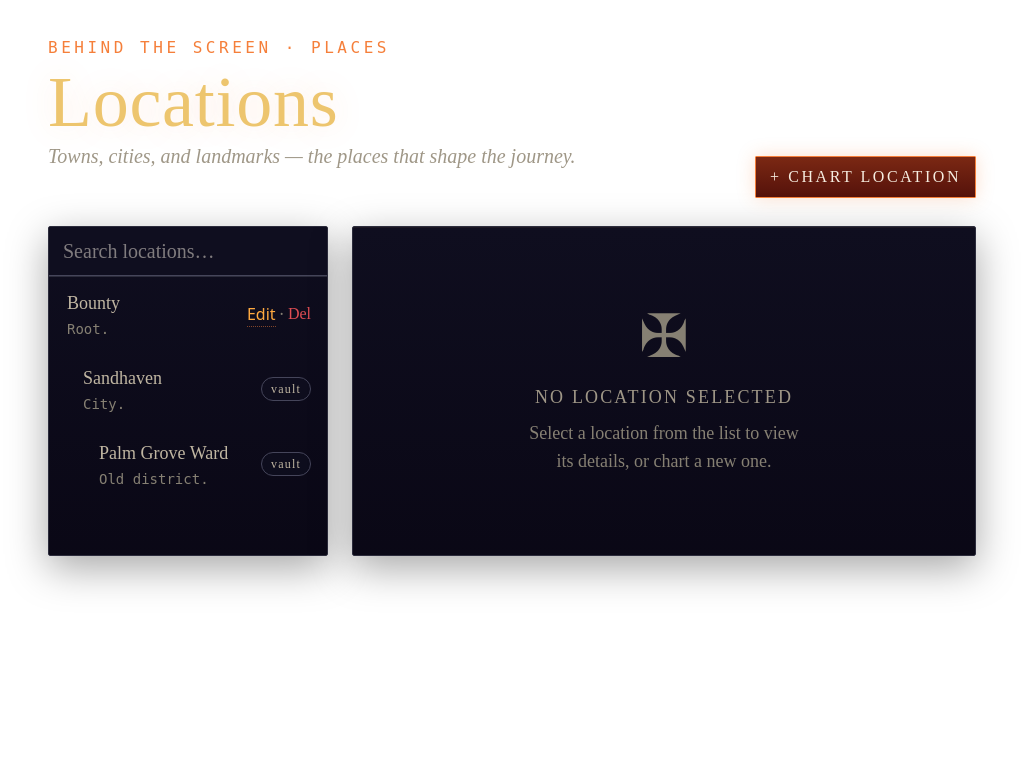
Test: Admin locations tree › lists nested locations, searches every level, and marks nested rows read-only
Expected: the text "Palm Grove Ward" is shown, [99,443,228,463]
Expected: the text "Sandhaven" is shown, [83,368,162,388]
Type "palm" into the field with placeholder "Search locations…".
click(188, 252); type("palm")  # box [49,227,327,276]
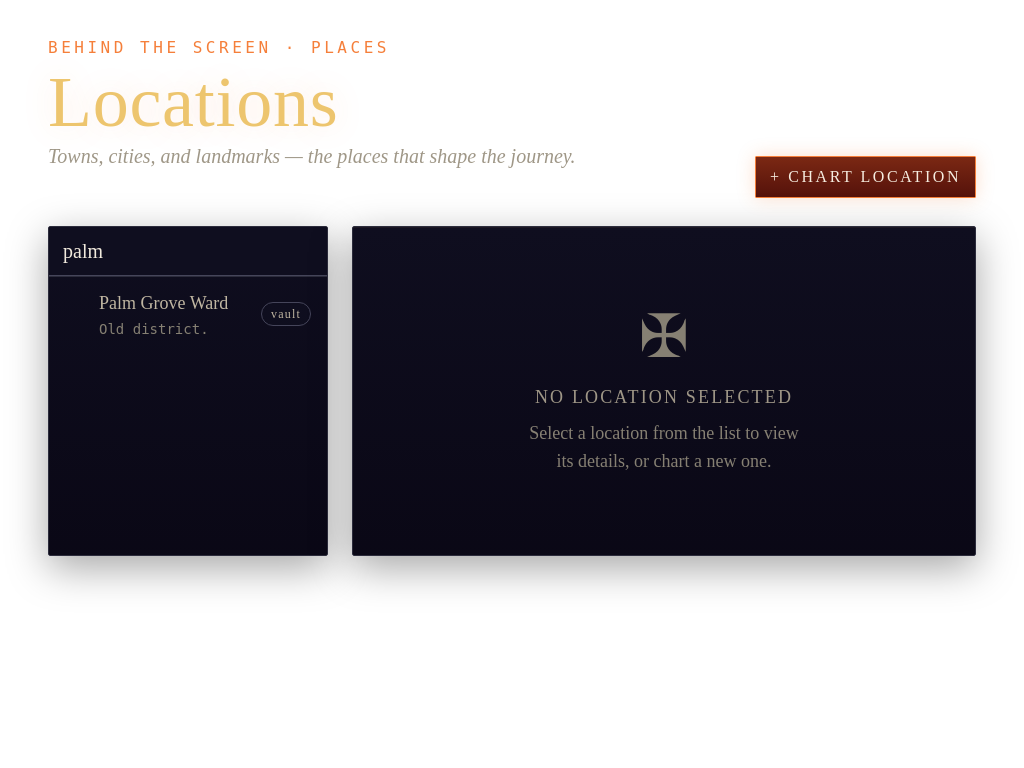
Expected: the text "Palm Grove Ward" is shown, [99,293,228,313]
Expected: the text "Sandhaven" is gone
Expected: the text "vault" is shown once, [261,302,311,326]
